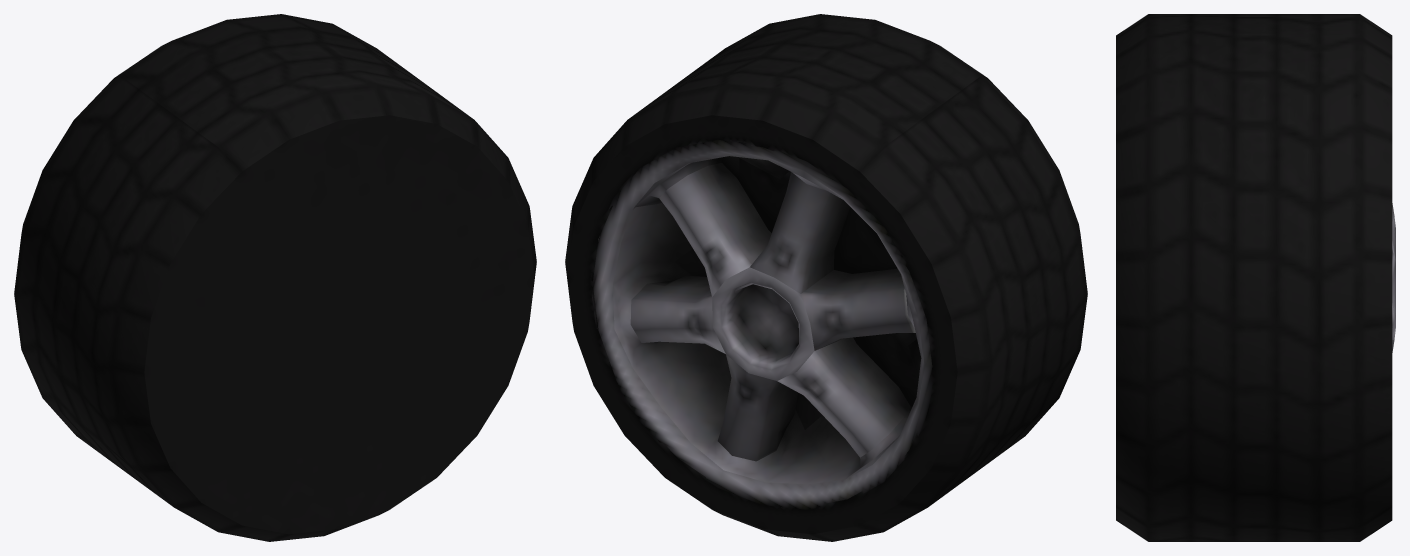
The model's file is defaultCarWheelReflected.fbx.
The picture shows the model from 3 angles, left to right: view 1: azimuth 30°, elevation 25°; view 2: azimuth 150°, elevation 25°; view 3: azimuth 270°, elevation 25°; orthographic projection. The views are drawn at different scales.
Visible parts, largest first — view 1: Mesh11; view 2: Mesh11, Mesh12; view 3: Mesh11, Mesh12.
Part boxes in pixels (x1=…): Mesh11: x1=14, y1=14, x2=536, y2=541; Mesh11: x1=565, y1=14, x2=1087, y2=541; Mesh12: x1=590, y1=140, x2=933, y2=509; Mesh11: x1=1116, y1=14, x2=1392, y2=541; Mesh12: x1=1392, y1=203, x2=1395, y2=352.
Bounding box in the file's own units: 0.3638 × 0.3638 × 0.1921.
Materials: 2 (2 with a texture image).
